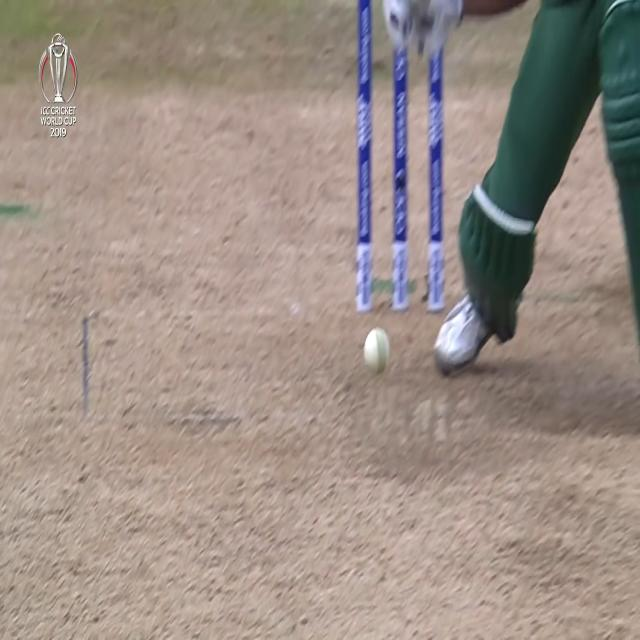Cricket ball: (363, 324, 392, 378)
